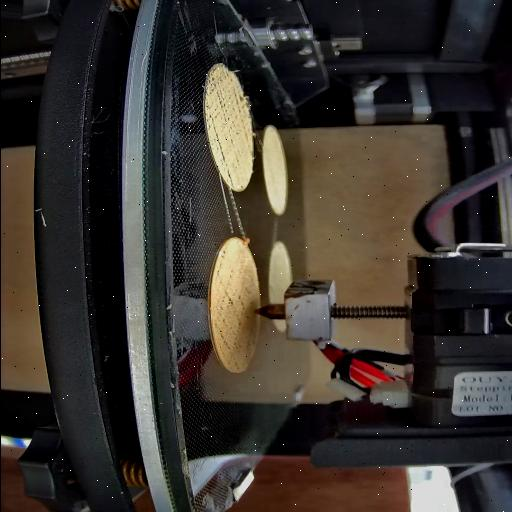under_extrusion: (213, 248, 245, 370), (206, 70, 244, 164), (219, 168, 239, 190)
